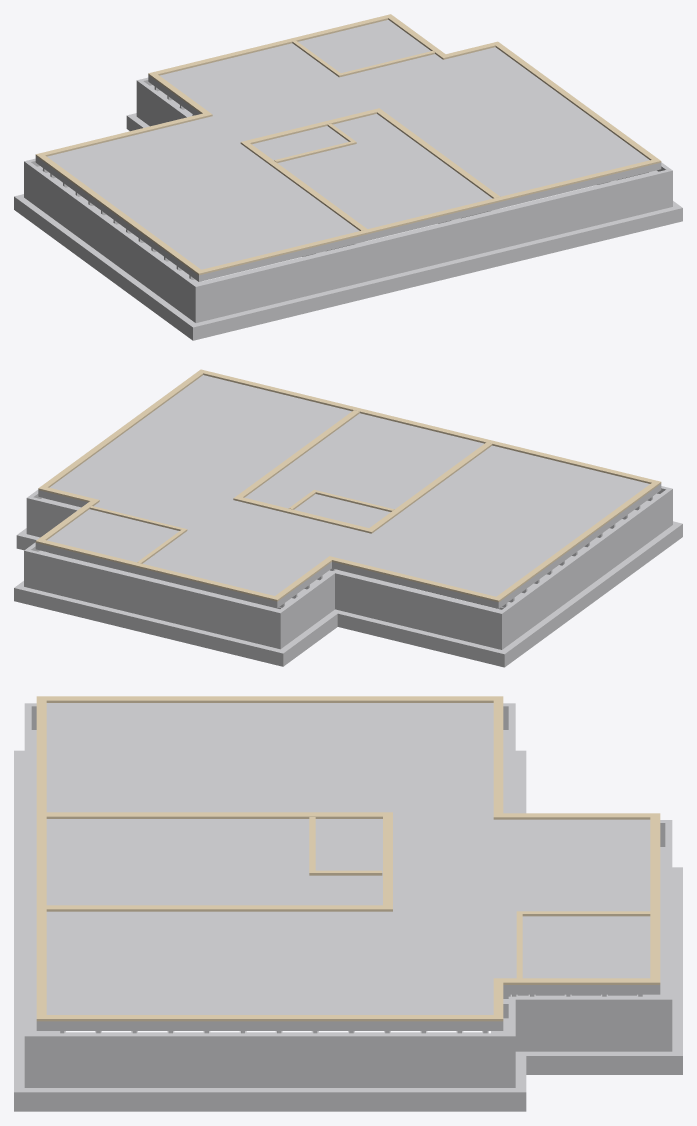
The model's file is stage-1.glb.
The picture shows the model from 3 angles, top to bottom: view 1: azimuth 30°, elevation 25°; view 2: azimuth 150°, elevation 25°; view 3: azimuth 270°, elevation 25°; orthographic projection. The views are drawn at different scales.
Bounding box in the file's own units: 11.53 × 1.3 × 9.53.
